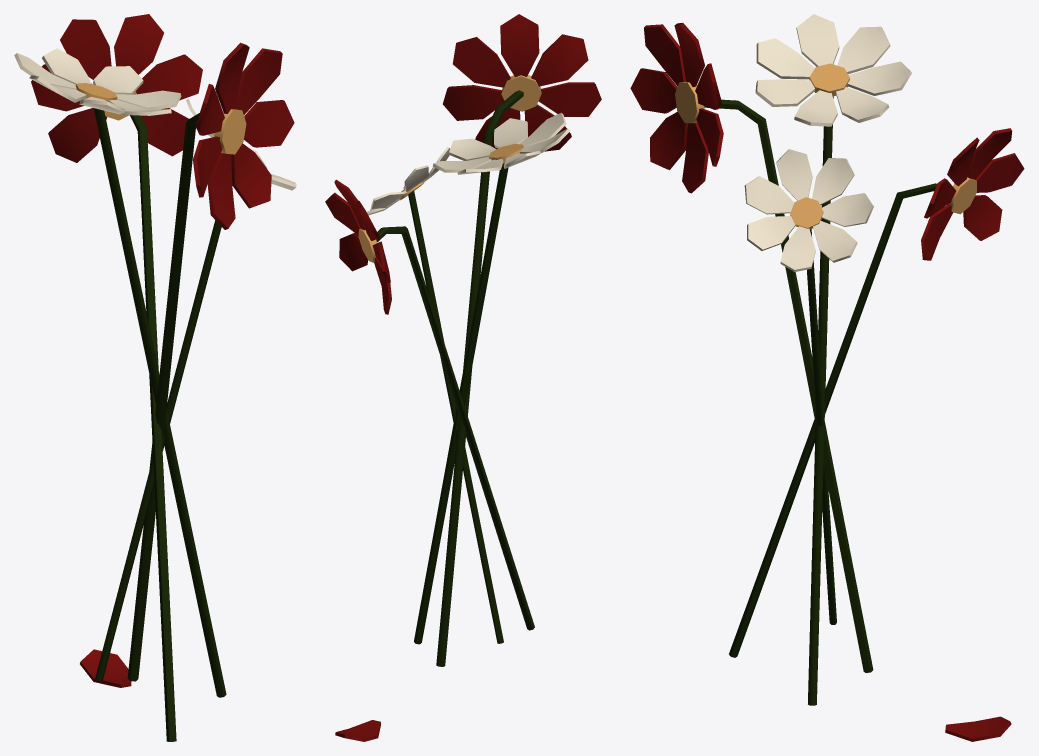
Rendered from Flowers_2.fbx.
3 views of the same model, side by side, from view 1: azimuth 30°, elevation 25°; view 2: azimuth 150°, elevation 25°; view 3: azimuth 270°, elevation 25° (orthographic). The views are drawn at different scales.
Visible parts, largest first — view 1: Flowers_01; view 2: Flowers_01; view 3: Flowers_01.
Boxes of the visible parts, <box> form: Flowers_01: <box>14,14,296,741</box>; Flowers_01: <box>325,14,601,741</box>; Flowers_01: <box>630,14,1024,741</box>.
Size of the model in its own units: 0.1434 by 0.4188 by 0.2143.
